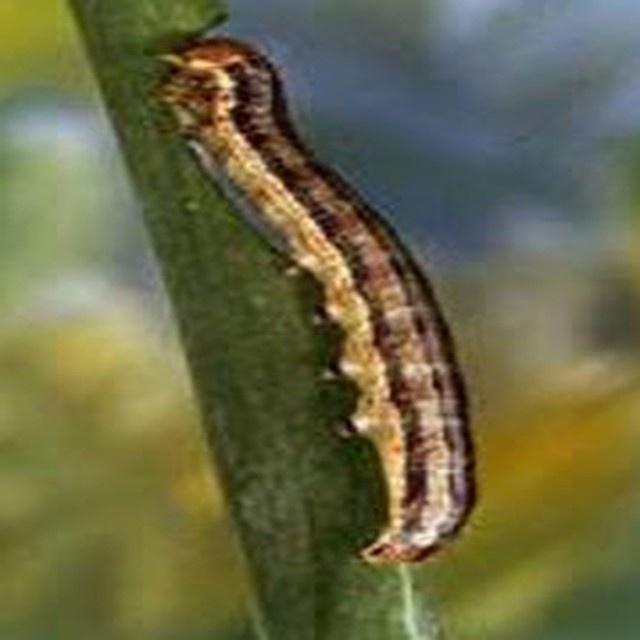gusano_cogollero: (160, 27, 478, 565)
